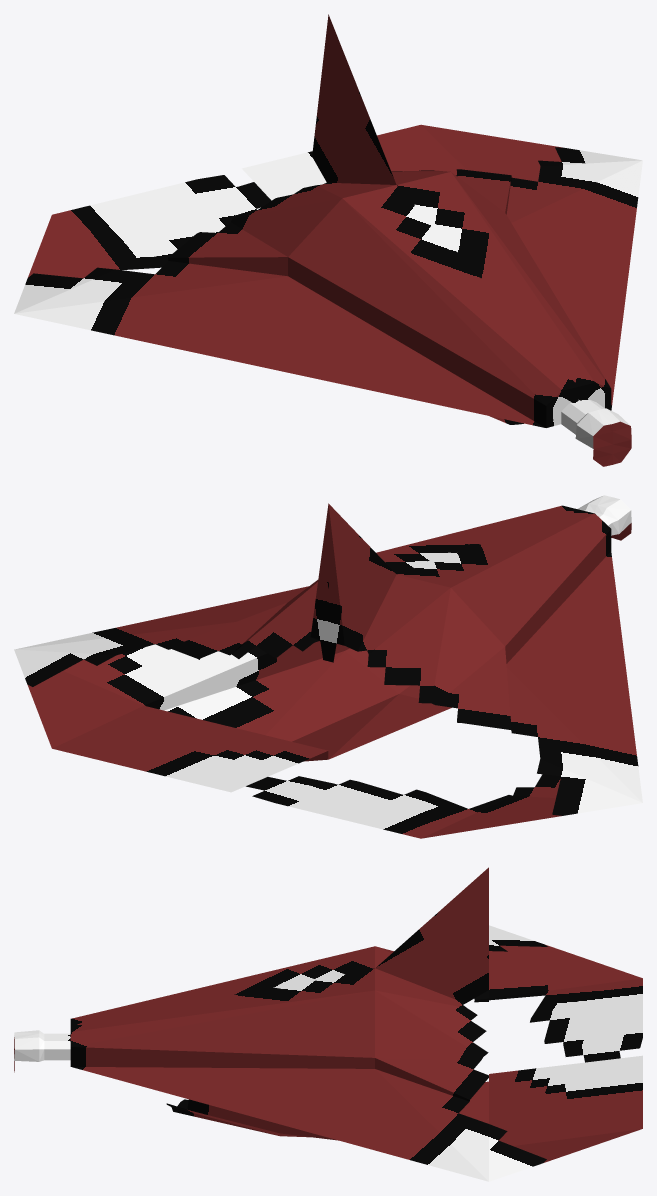
Rendered from enemy.obj.
3 renders of one model, top to bottom at view 1: azimuth 30°, elevation 25°; view 2: azimuth 150°, elevation 25°; view 3: azimuth 270°, elevation 25°, orthographic. The views are drawn at different scales.
Visible parts, largest first — view 1: Cube; view 2: Cube; view 3: Cube.
Part boxes in pixels (x1,y1,x2,y2): Cube: [14, 14, 642, 466]; Cube: [14, 495, 642, 838]; Cube: [14, 867, 642, 1181].
Bounding box in the file's own units: 6.36 × 2.85 × 6.59.
